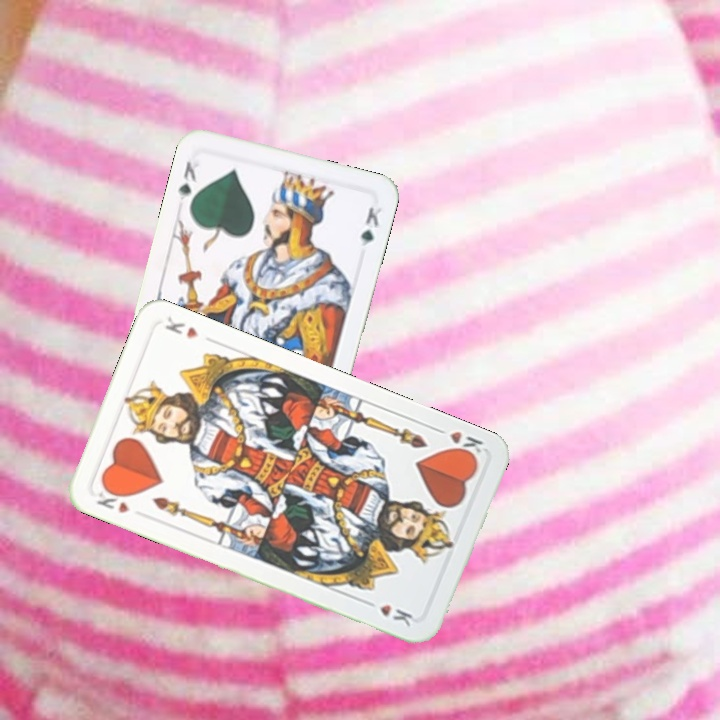GK: (174, 156, 200, 203)
HK: (430, 423, 486, 462), (92, 482, 132, 516)
